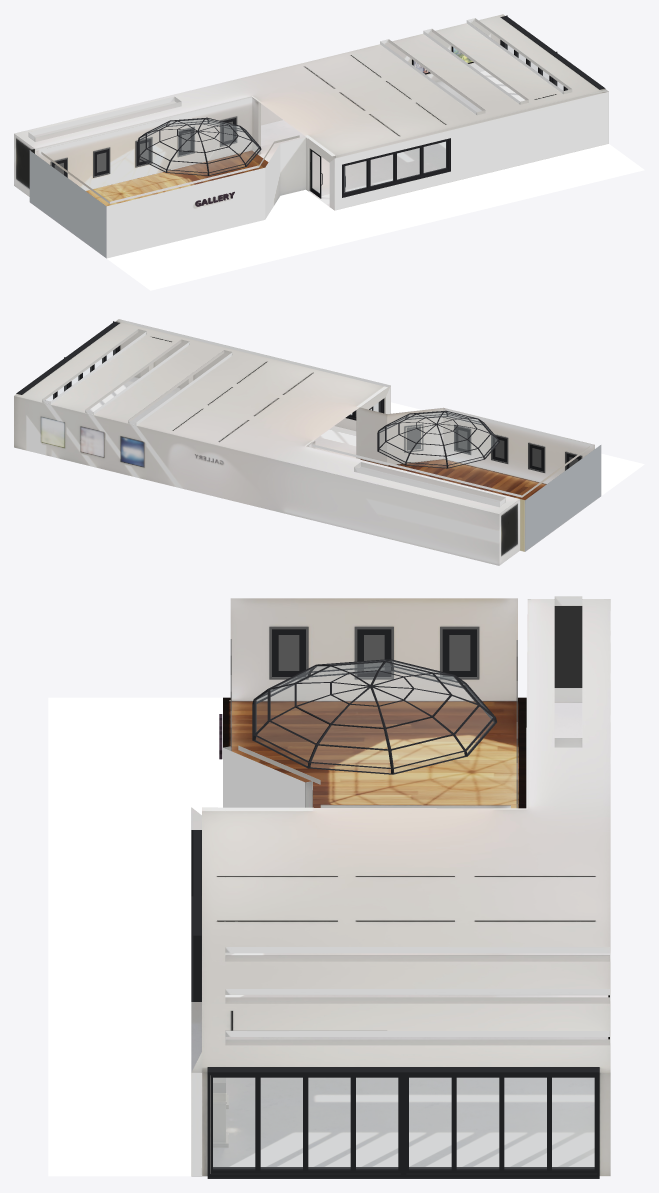
The model's file is art-gallery20.glb.
3 renders of one model, top to bottom at view 1: azimuth 30°, elevation 25°; view 2: azimuth 150°, elevation 25°; view 3: azimuth 270°, elevation 25°, orthographic. The views are drawn at different scales.
Visible parts, largest first — view 1: ParedesPrincipais, Paredes, Chao_entrada.001, Sphere.002, Metais, Chao_entrada, Chao_madeira, Todos os quadros; view 2: ParedesPrincipais, Paredes, Sphere.002, Chao_madeira, Todos os quadros, Chao_entrada, Metais, Chao_entrada.001; view 3: ParedesPrincipais, Chao_entrada.001, Metais, Chao_entrada, Paredes, Chao_madeira, Sphere.002, Todos os quadros.
Boxes of the visible parts, x1,y1,x2,y2 form: ParedesPrincipais: [14, 14, 608, 210]; Paredes: [29, 98, 334, 258]; Chao_entrada.001: [107, 144, 644, 290]; Sphere.002: [138, 117, 261, 175]; Metais: [310, 15, 605, 198]; Chao_entrada: [252, 71, 525, 206]; Chao_madeira: [86, 150, 268, 206]; Todos os quadros: [50, 116, 237, 177]; ParedesPrincipais: [14, 319, 524, 565]; Paredes: [309, 385, 601, 551]; Sphere.002: [377, 410, 499, 468]; Chao_madeira: [360, 459, 546, 499]; Todos os quadros: [404, 424, 582, 472]; Chao_entrada: [88, 377, 360, 459]; Metais: [16, 321, 384, 439]; Chao_entrada.001: [350, 402, 644, 495]; ParedesPrincipais: [191, 596, 610, 1175]; Chao_entrada.001: [48, 697, 222, 1176]; Metais: [191, 830, 599, 1178]; Chao_entrada: [191, 702, 610, 1176]; Paredes: [223, 598, 517, 808]; Chao_madeira: [223, 697, 526, 808]; Sphere.002: [252, 659, 496, 774]; Todos os quadros: [230, 606, 582, 808].
Size of the model in its own units: 62.24 by 8.29 by 30.8.
19 materials, 9 textured.
